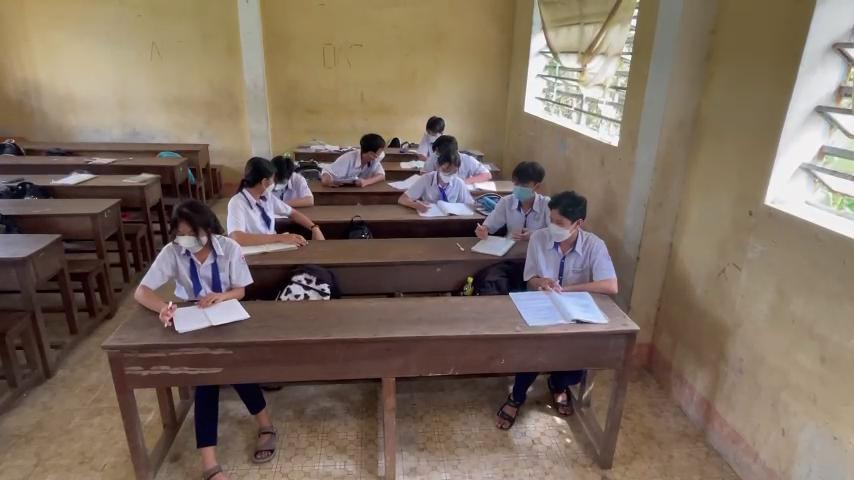Hand Under Table: (454, 174, 477, 210)
Look Around: (541, 183, 587, 247), (233, 153, 276, 206), (351, 126, 394, 179)
